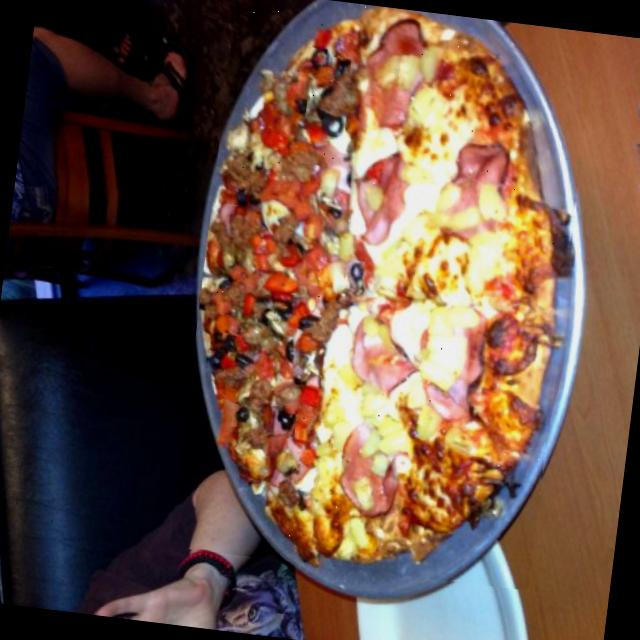Olive: (230, 342, 256, 380), (270, 403, 298, 438), (344, 258, 366, 292), (228, 402, 255, 428), (275, 292, 298, 322), (282, 334, 304, 364), (324, 112, 346, 140), (306, 46, 328, 74), (328, 56, 352, 80), (232, 178, 252, 206), (218, 331, 242, 354), (294, 311, 323, 328), (208, 349, 228, 372), (289, 94, 307, 118)
pizza: (200, 9, 570, 564)
